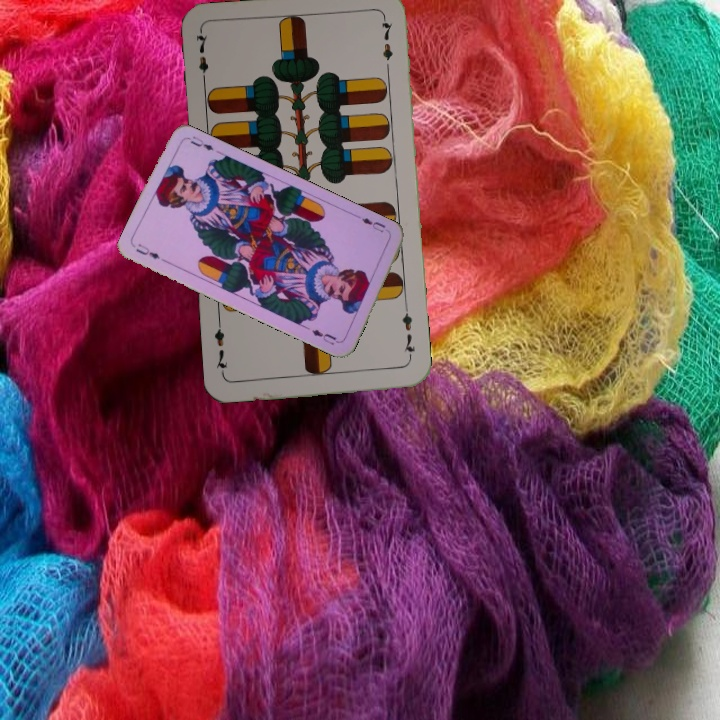E7: (398, 305, 418, 364), (192, 28, 211, 87)
EU: (358, 214, 392, 235), (132, 239, 162, 262)
